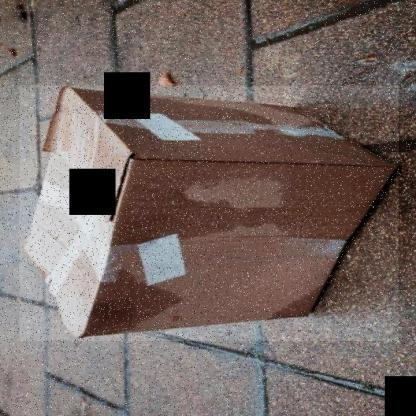box: (20, 86, 398, 341)
